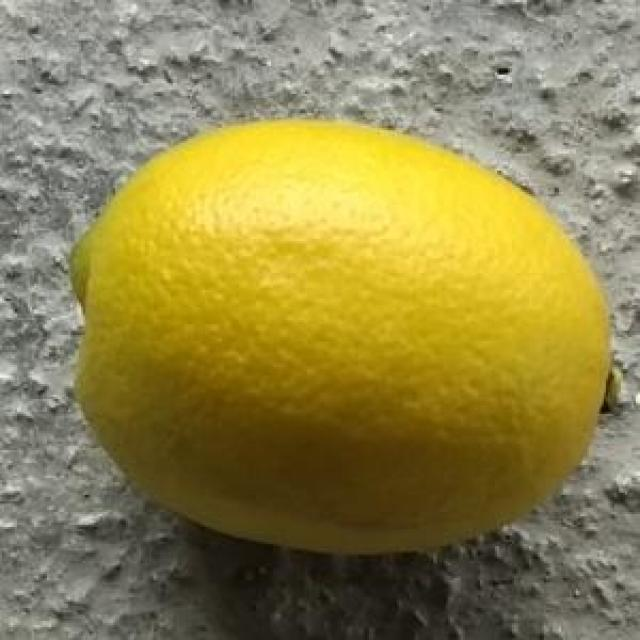lemon: (68, 117, 620, 559)
